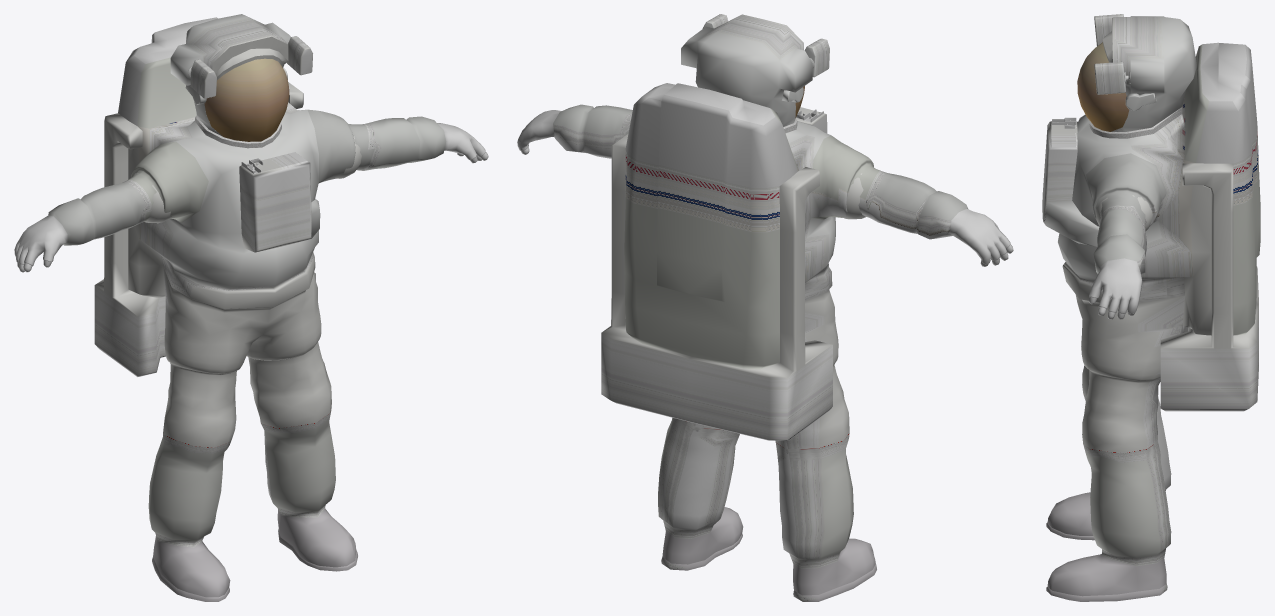
Rendered from Astronaut.glb.
3 renders of one model, left to right at view 1: azimuth 30°, elevation 25°; view 2: azimuth 150°, elevation 25°; view 3: azimuth 270°, elevation 25°, orthographic. The views are drawn at different scales.
Parts seen in each view (by area): view 1: astronaut1; view 2: astronaut1; view 3: astronaut1, ShoulderFillR.
Part boxes in pixels (left/top/right/bottom): astronaut1: left=14, top=14, right=488, bottom=601; astronaut1: left=517, top=14, right=1013, bottom=601; astronaut1: left=1042, top=14, right=1260, bottom=601; ShoulderFillR: left=1096, top=195, right=1152, bottom=230.
Size of the model in its own units: 68.91 by 74.26 by 27.6.
3 materials, 2 textured.
